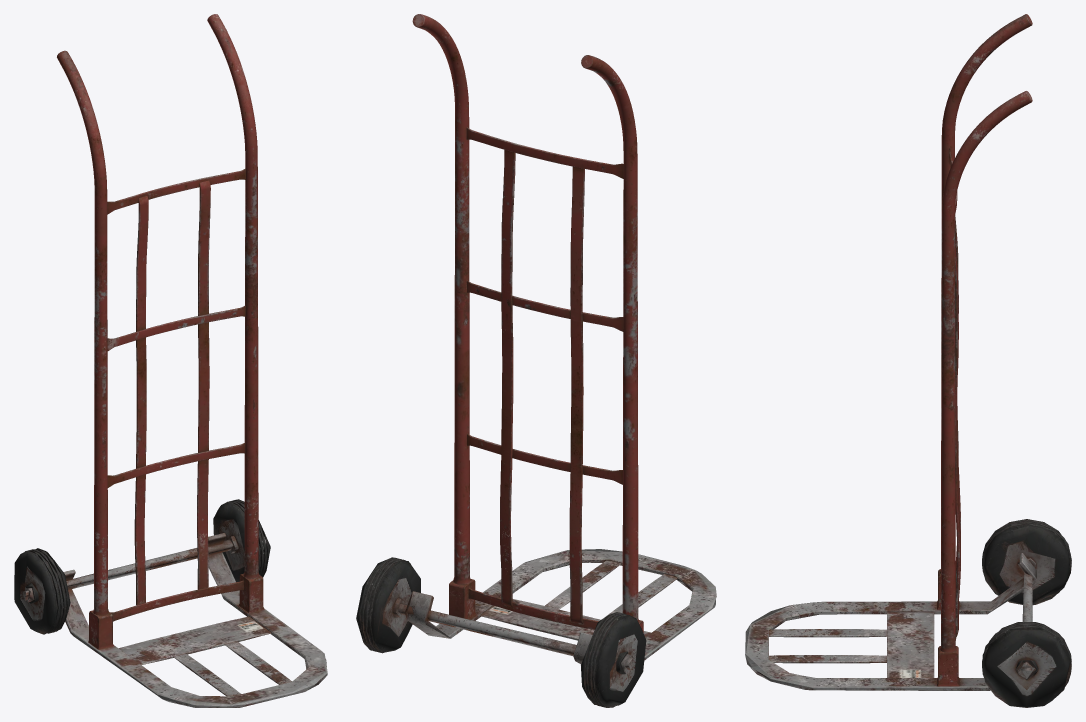
Rendered from handTruck_hq.glb.
3 views of the same model, side by side, from view 1: azimuth 30°, elevation 25°; view 2: azimuth 150°, elevation 25°; view 3: azimuth 270°, elevation 25° (orthographic). The views are drawn at different scales.
Visible parts, largest first — view 1: hand_truck; view 2: hand_truck; view 3: hand_truck.
Part boxes in pixels (box(x1,y1,x2,y2)): hand_truck: box(14, 14, 327, 707); hand_truck: box(356, 14, 716, 707); hand_truck: box(745, 14, 1071, 707).
Size of the model in its own units: 0.5933 by 1.4 by 0.6921.
1 material, 1 textured.
